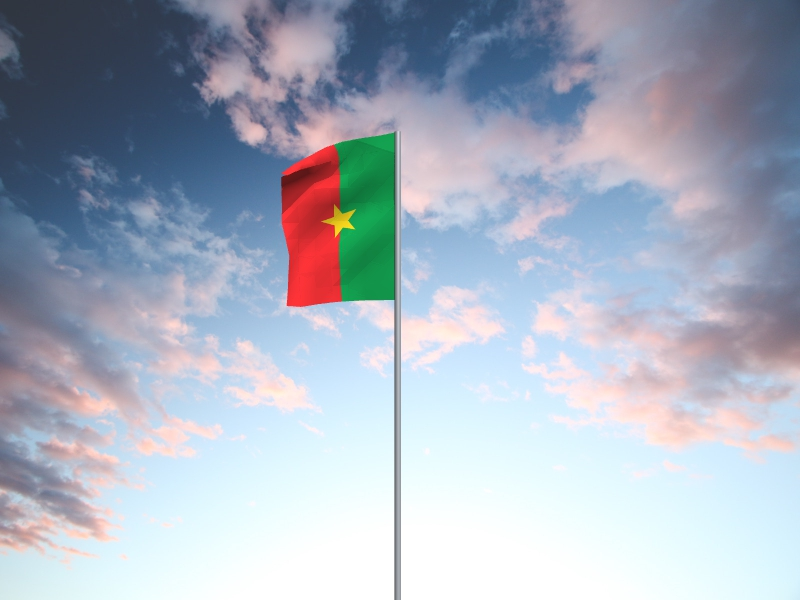bf: (280, 133, 395, 309)
